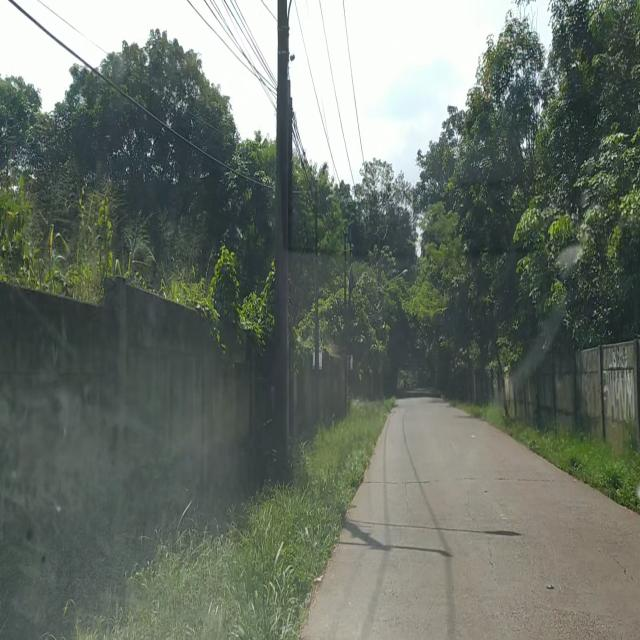Sewer Cover: (363, 476, 565, 486)
